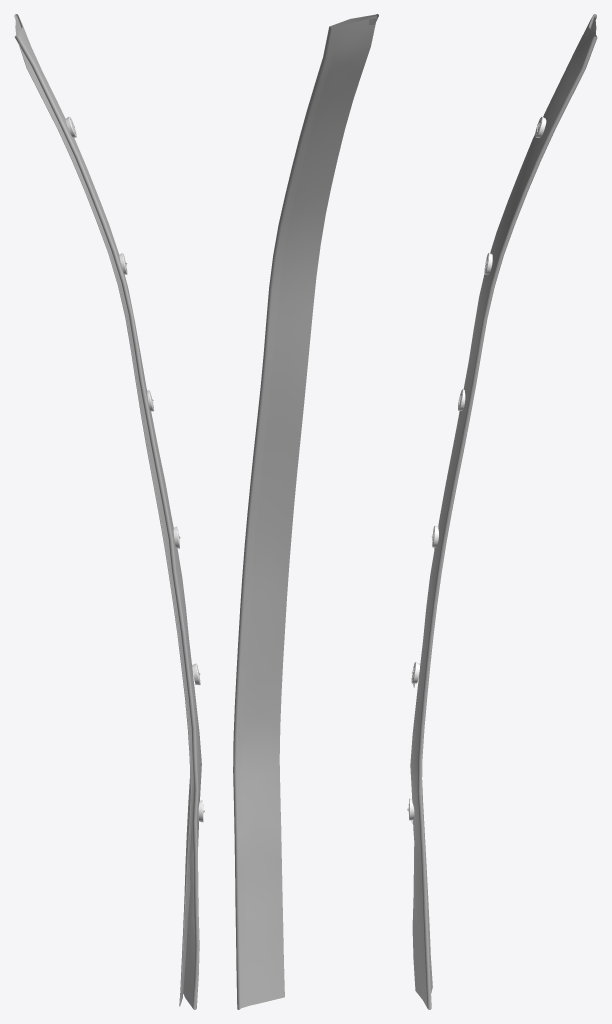
Rendered from Wide_Front_Placket.glb.
3 views of the same model, side by side, from view 1: azimuth 90°, elevation 25°; view 2: azimuth 210°, elevation 25°; view 3: azimuth 270°, elevation 25° (orthographic). The views are drawn at different scales.
Visible parts, largest first — view 1: placket.001; view 2: placket.001; view 3: placket.001.
Boxes of the visible parts, box(x1,y1,x2,y2) form: placket.001: box(14, 14, 201, 1009); placket.001: box(233, 14, 378, 1009); placket.001: box(410, 14, 597, 1009).
Size of the model in its own units: 3.18 by 61.84 by 10.94.
4 materials, 1 textured.
